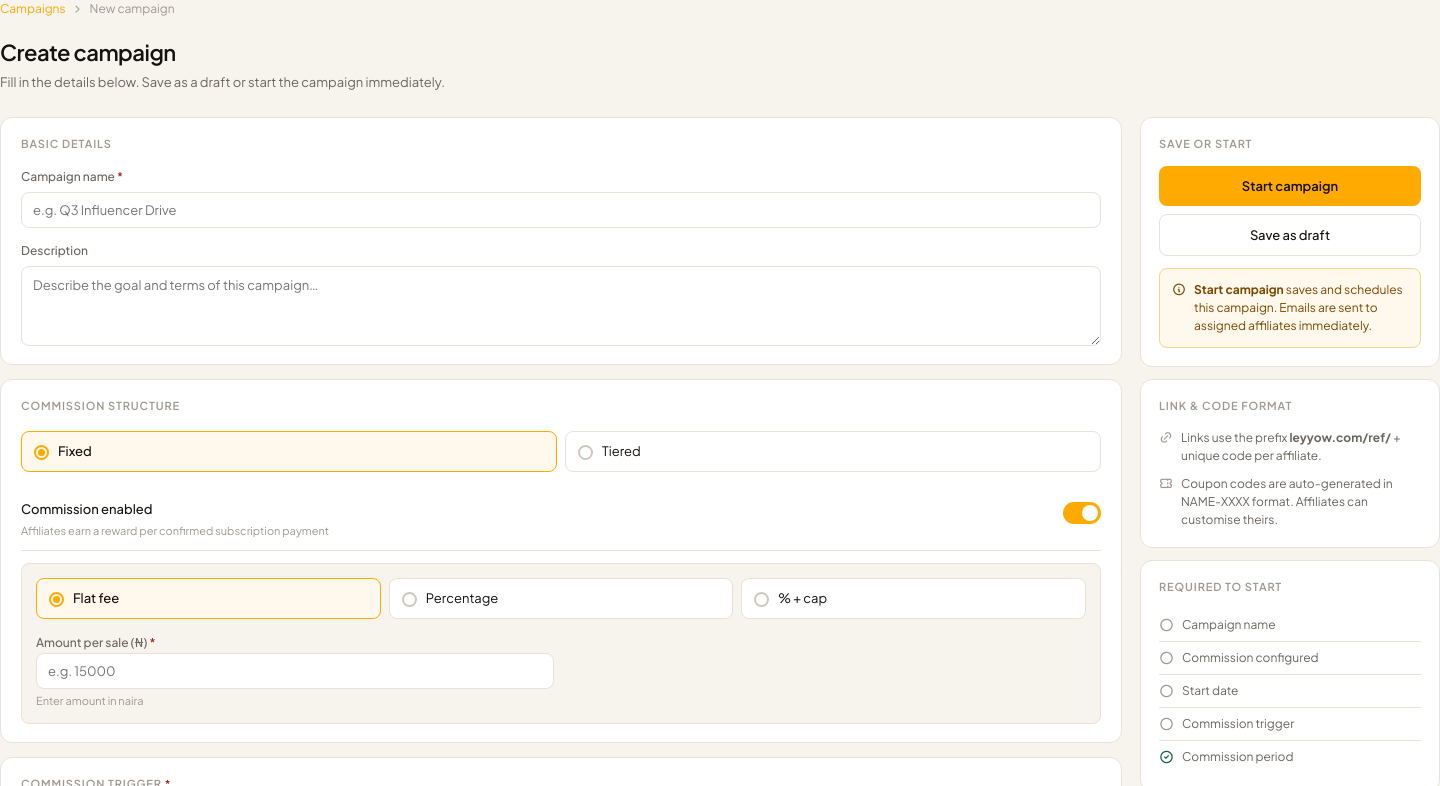
Scenario: tiered — tier builder › remove button becomes enabled when more than one row exists
Click the element with class "radio-opt" showing "Tiered" at (833, 451), box [565, 430, 1101, 472]
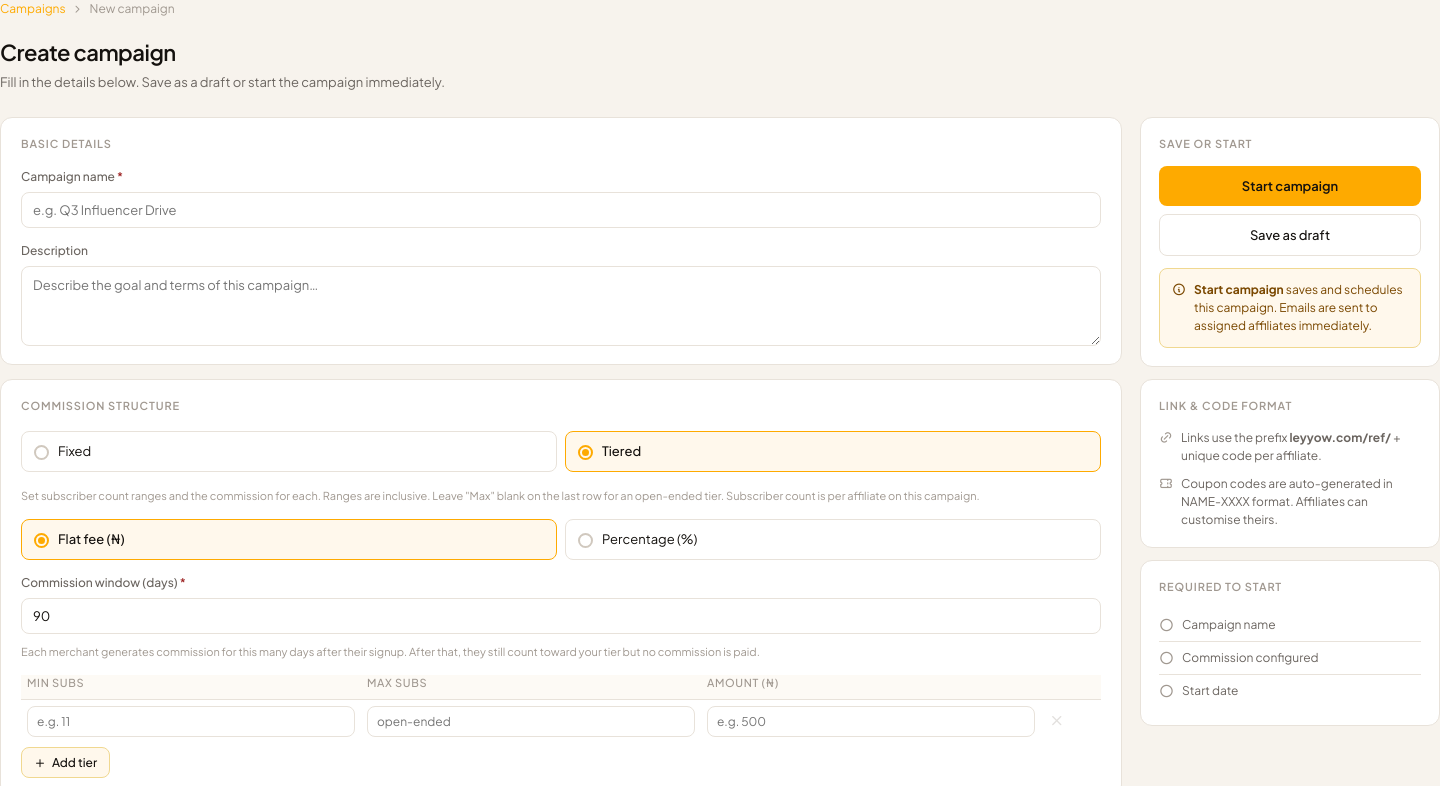
Click the button with class "add-tier-btn" at (66, 762), box [21, 747, 110, 778]
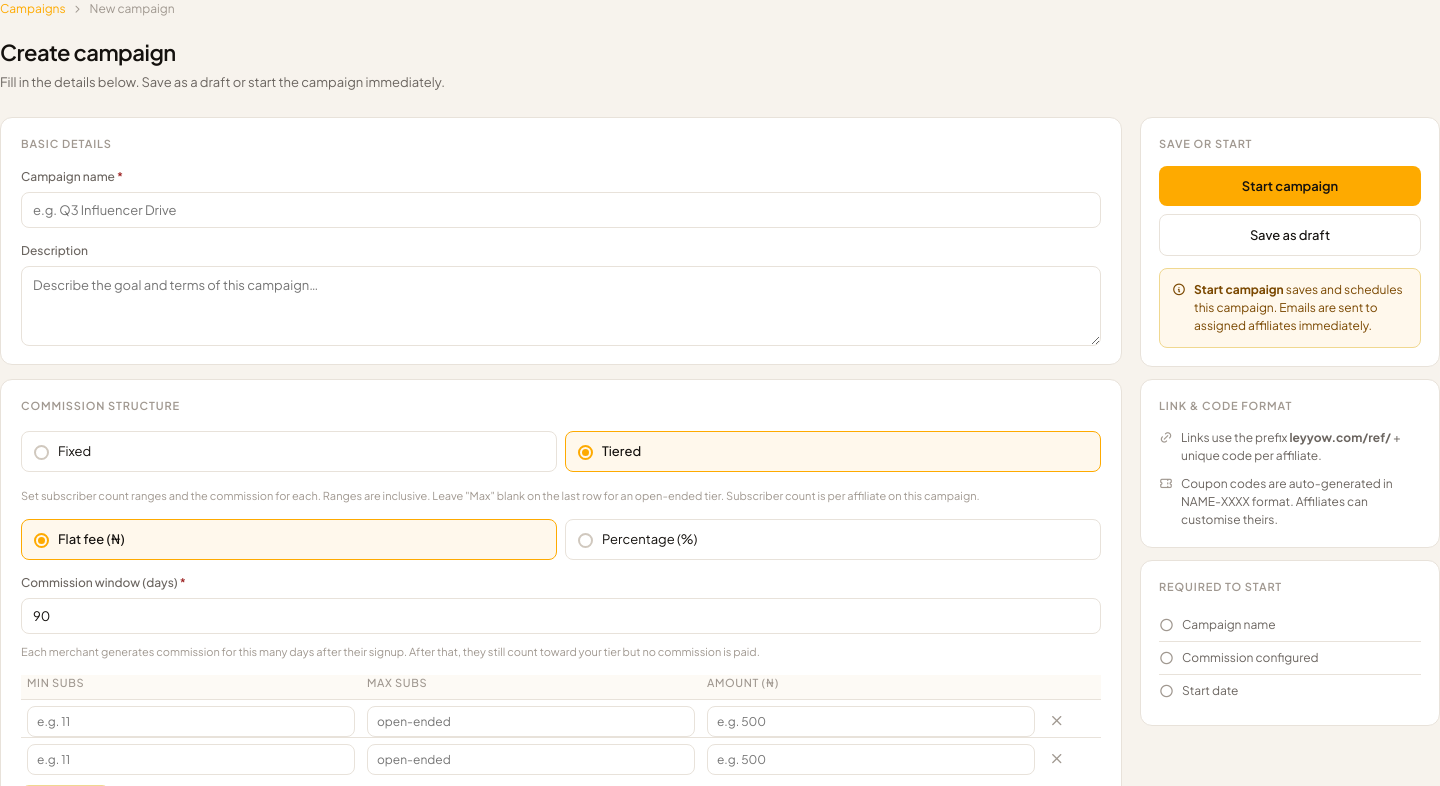
Expected: the 1st button with class "remove-btn" is enabled, [1047, 710, 1067, 732]
